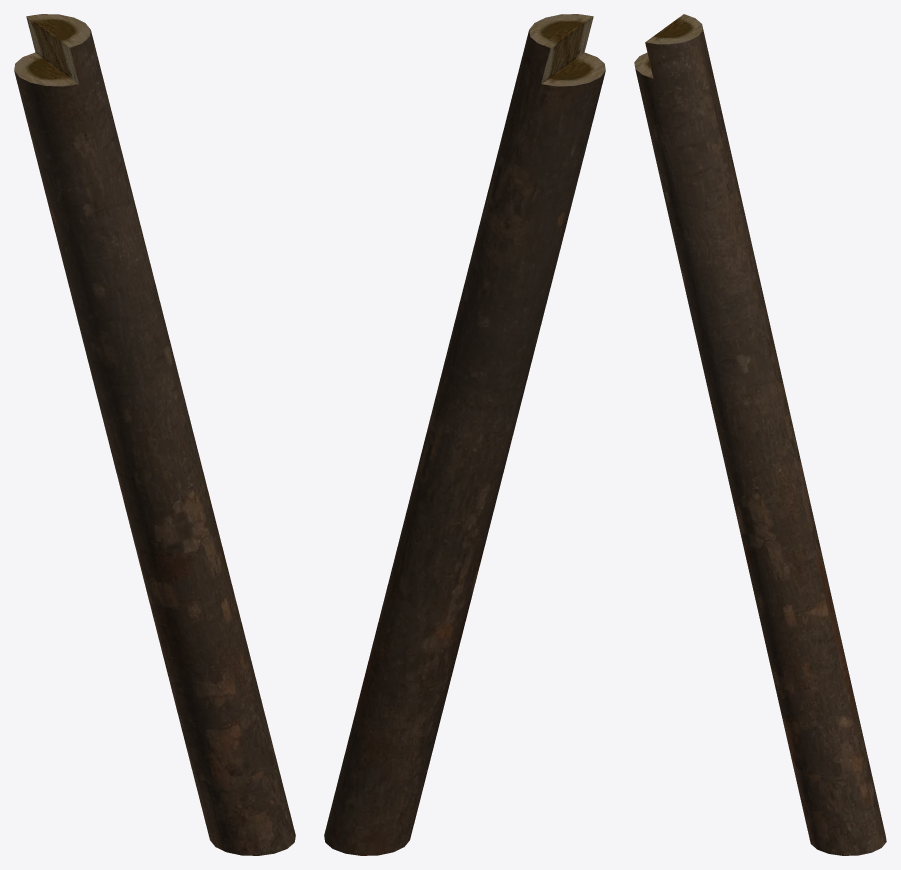
The model's file is ThreeSupportAC.glb.
3 renders of one model, left to right at view 1: azimuth 30°, elevation 25°; view 2: azimuth 150°, elevation 25°; view 3: azimuth 330°, elevation 25°, orthographic. The views are drawn at different scales.
Parts seen in each view (by area): view 1: ThreeSupportAC; view 2: ThreeSupportAC; view 3: ThreeSupportAC.
Boxes of the visible parts, left/top/right/bottom form: ThreeSupportAC: left=14, top=14, right=295, bottom=855; ThreeSupportAC: left=324, top=14, right=605, bottom=855; ThreeSupportAC: left=634, top=14, right=886, bottom=855.
Bounding box in the file's own units: 0.7221 × 2.18 × 0.2.
Materials: 1 (1 with a texture image).
